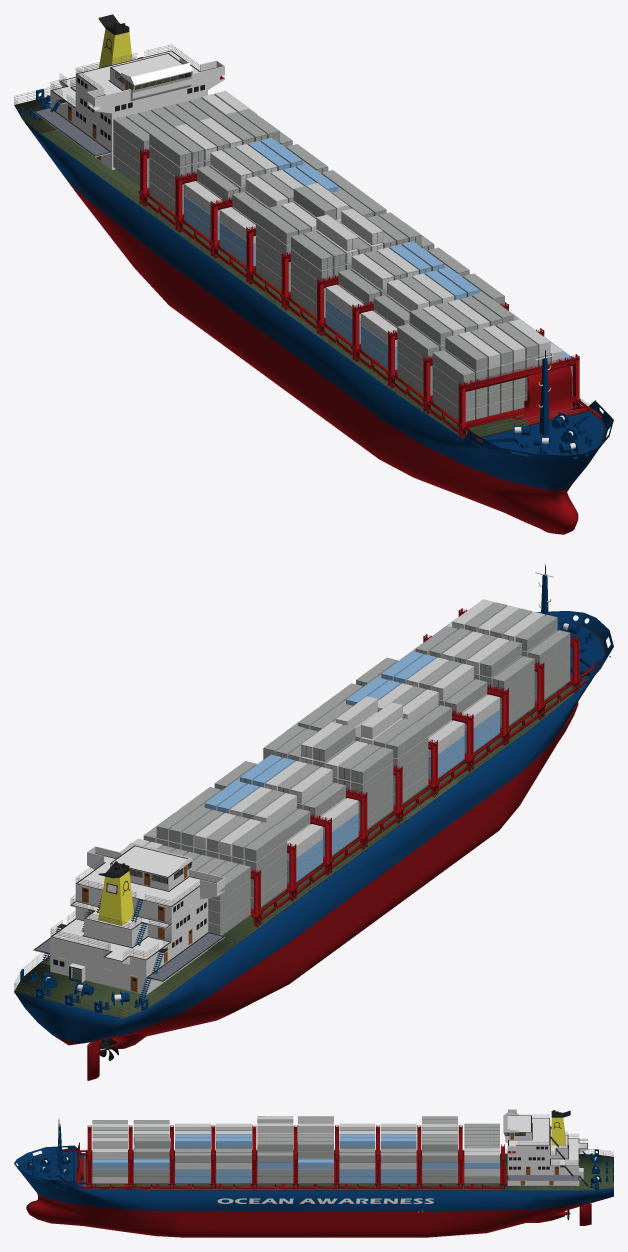
File: cargoship.glb
The picture shows the model from 3 angles, top to bottom: view 1: azimuth 30°, elevation 25°; view 2: azimuth 150°, elevation 25°; view 3: azimuth 270°, elevation 25°; orthographic projection. The views are drawn at different scales.
Parts seen in each view (by area): view 1: SM_container, SM_hull, SM_house, SM_holderMidship, SM_railingAtext, SM_holderFront; view 2: SM_container, SM_hull, SM_house, SM_holderMidship, SM_railingAtext; view 3: SM_hull, SM_container, SM_house, SM_holderMidship, SM_containerfloor, SM_railingAtext, SM_logoSide.004, SM_holderBack, SM_rudder, SM_holderFront.
Part boxes in pixels (box(x1,y1,x2,y2)): SM_container: box(113, 90, 572, 421); SM_hull: box(14, 96, 601, 534); SM_house: box(20, 14, 613, 461); SM_holderMidship: box(138, 148, 602, 450); SM_railingAtext: box(14, 44, 589, 438); SM_holderFront: box(524, 365, 588, 425); SM_container: box(120, 599, 570, 935); SM_hull: box(14, 650, 594, 1049); SM_house: box(20, 563, 613, 1013); SM_holderMidship: box(250, 608, 610, 927); SM_railingAtext: box(14, 662, 589, 1017); SM_hull: box(21, 1152, 613, 1237); SM_container: box(92, 1116, 499, 1183); SM_house: box(14, 1109, 613, 1189); SM_holderMidship: box(61, 1125, 464, 1189); SM_containerfloor: box(94, 1184, 500, 1190); SM_railingAtext: box(80, 1114, 613, 1190); SM_logoSide.004: box(217, 1198, 433, 1203); SM_holderBack: box(463, 1144, 506, 1188); SM_rudder: box(579, 1203, 591, 1225); SM_holderFront: box(76, 1142, 83, 1185).
Bounding box in the file's own units: 29.42 × 41.7 × 199.
Materials: 24 (12 with a texture image).
